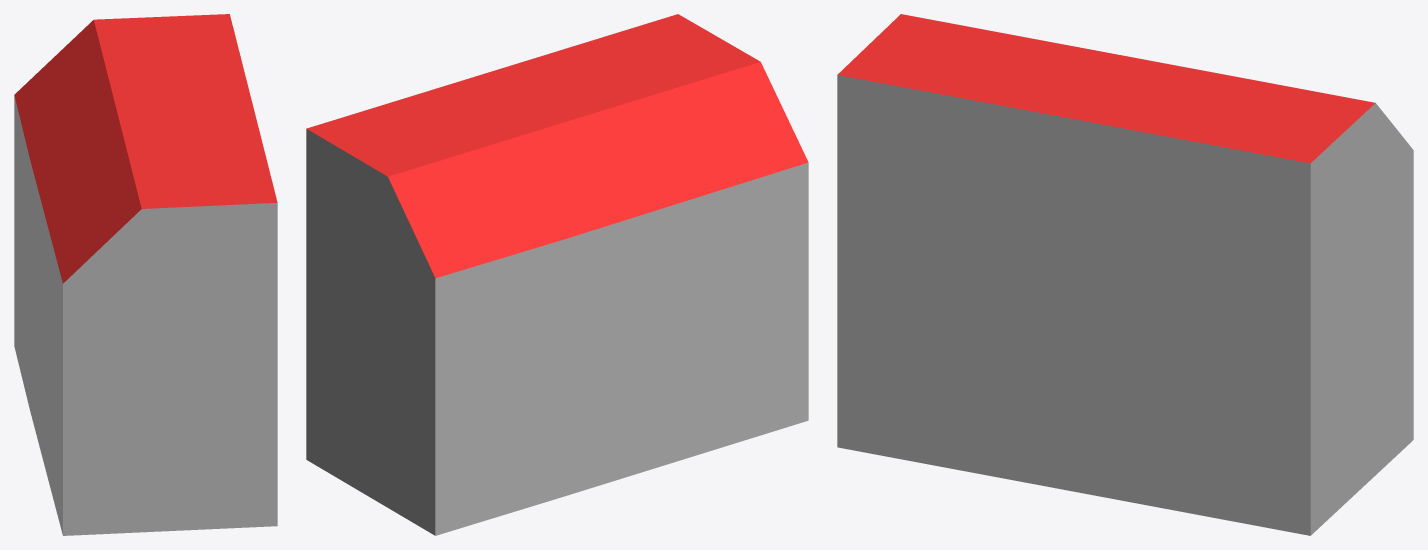
File: DEBY_LOD2_4908139.dae
3 renders of one model, left to right at view 1: azimuth 30°, elevation 25°; view 2: azimuth 150°, elevation 25°; view 3: azimuth 270°, elevation 25°, orthographic. The views are drawn at different scales.
Size of the model in its own units: 12.22 by 16.11 by 11.49.
